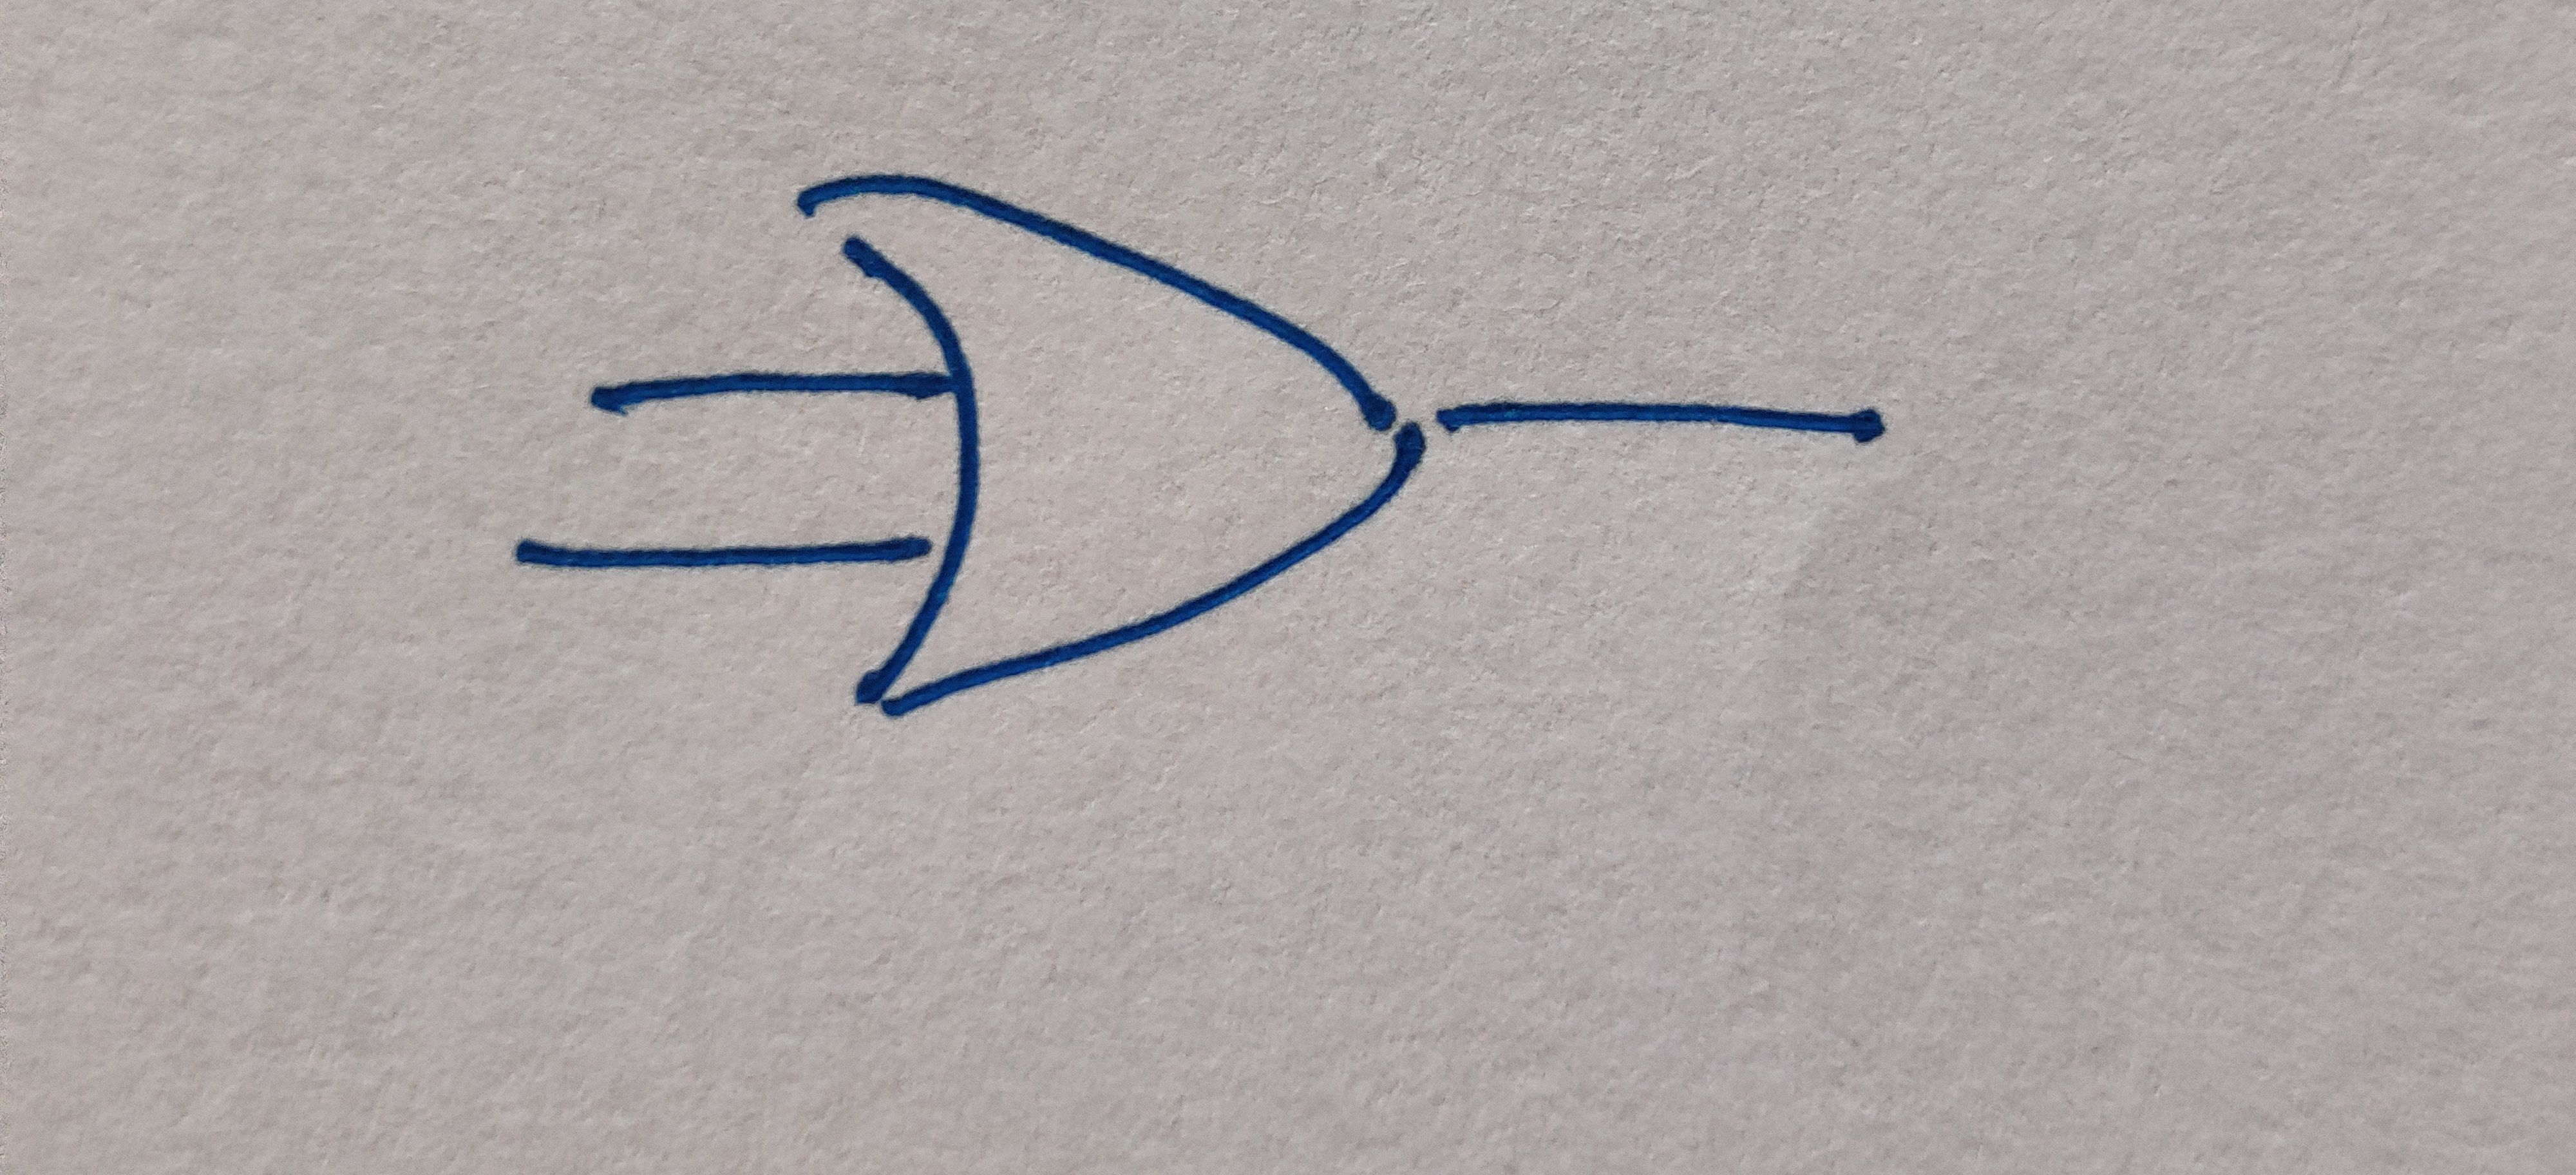or: (800, 173, 1418, 715)
